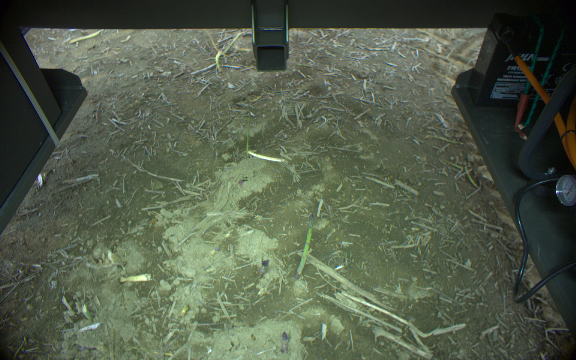aspa: (295, 213, 314, 279), (275, 327, 293, 357)
